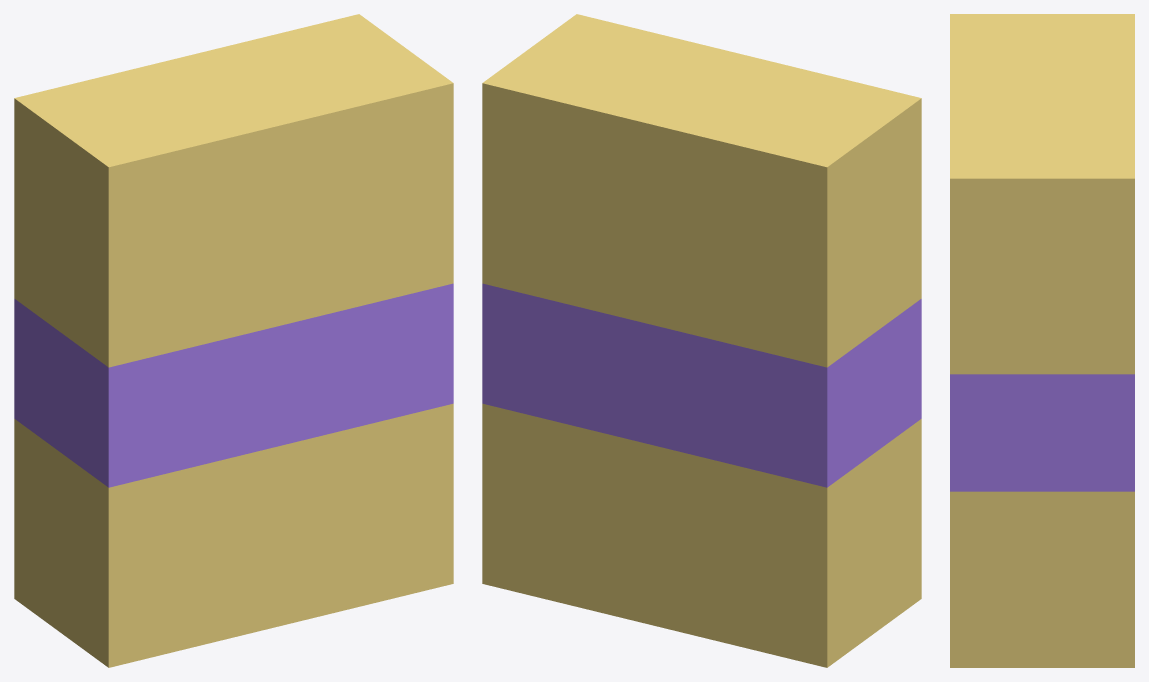
File: Ürün52.fbx
3 views of the same model, side by side, from view 1: azimuth 30°, elevation 25°; view 2: azimuth 150°, elevation 25°; view 3: azimuth 270°, elevation 25° (orthographic). The views are drawn at different scales.
Parts seen in each view (by area): view 1: pCube87; view 2: pCube87; view 3: pCube87.
Boxes of the visible parts, x1,y1,x2,y2 form: pCube87: [14, 14, 453, 667]; pCube87: [482, 14, 921, 667]; pCube87: [950, 14, 1134, 667].
Bounding box in the file's own units: 23.51 × 32.6 × 11.16.
